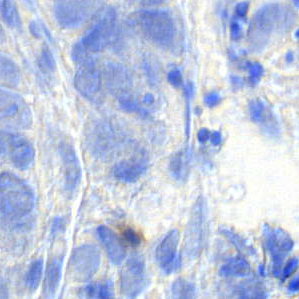Lymphocyte: (119, 223, 147, 246)
